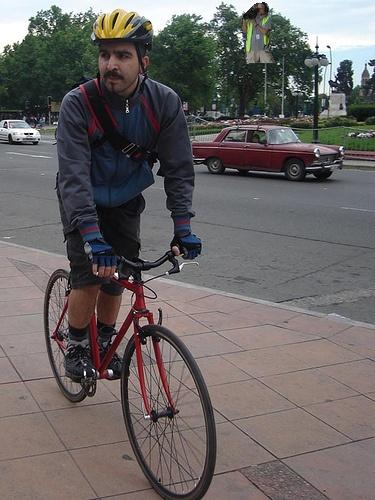tampered: (243, 3, 275, 64)
